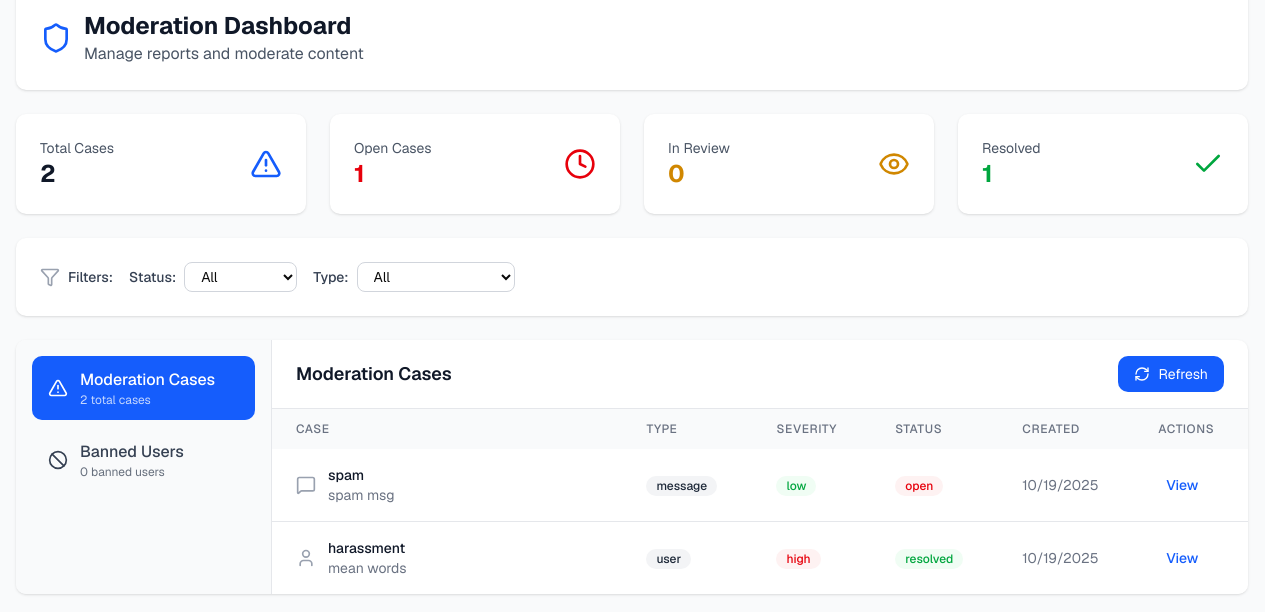
Test: ModerationDashboard (MSW-backed) › filters by status and type
Expected: the text "spam" is shown, [328,466,364,484]
Expected: the text "harassment" is shown, [328,539,405,557]
Select "Resolved" in the dropdown labelled "Status:" at [241, 277], box [184,262,297,292]
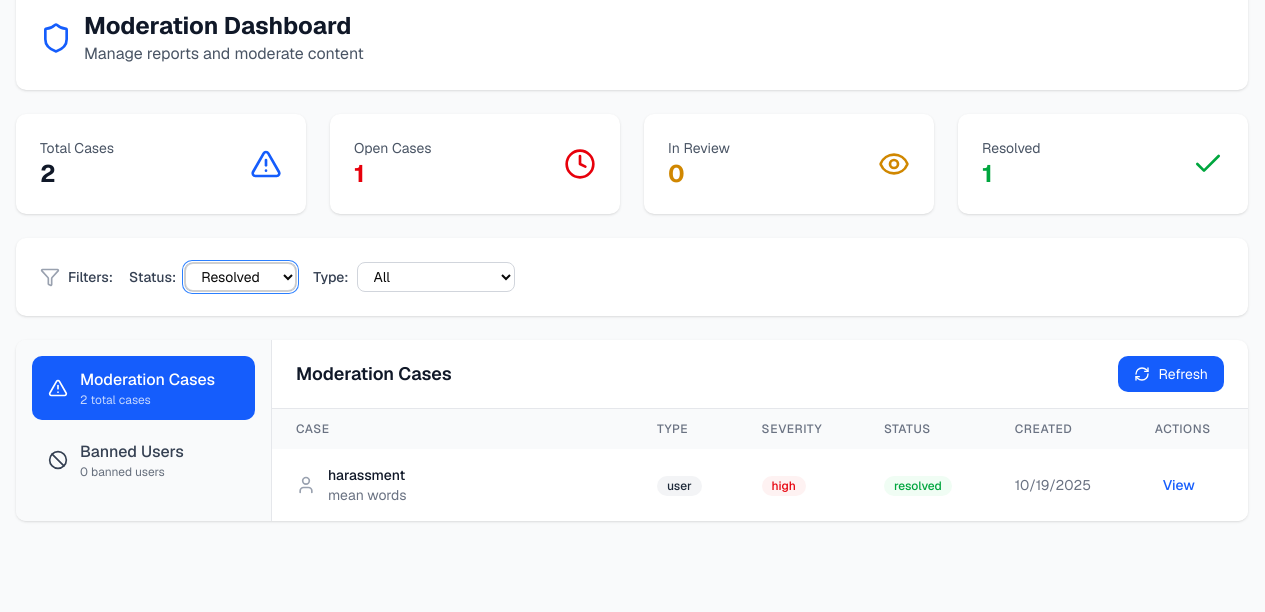
Expected: the text "harassment" is shown, [328,466,405,484]
Expected: the text "spam" is gone
Note: Filter by type: message (should hide the user case)
Select "Message Reports" in the dropdown labelled "Type:" at [436, 277], box [357,262,515,292]
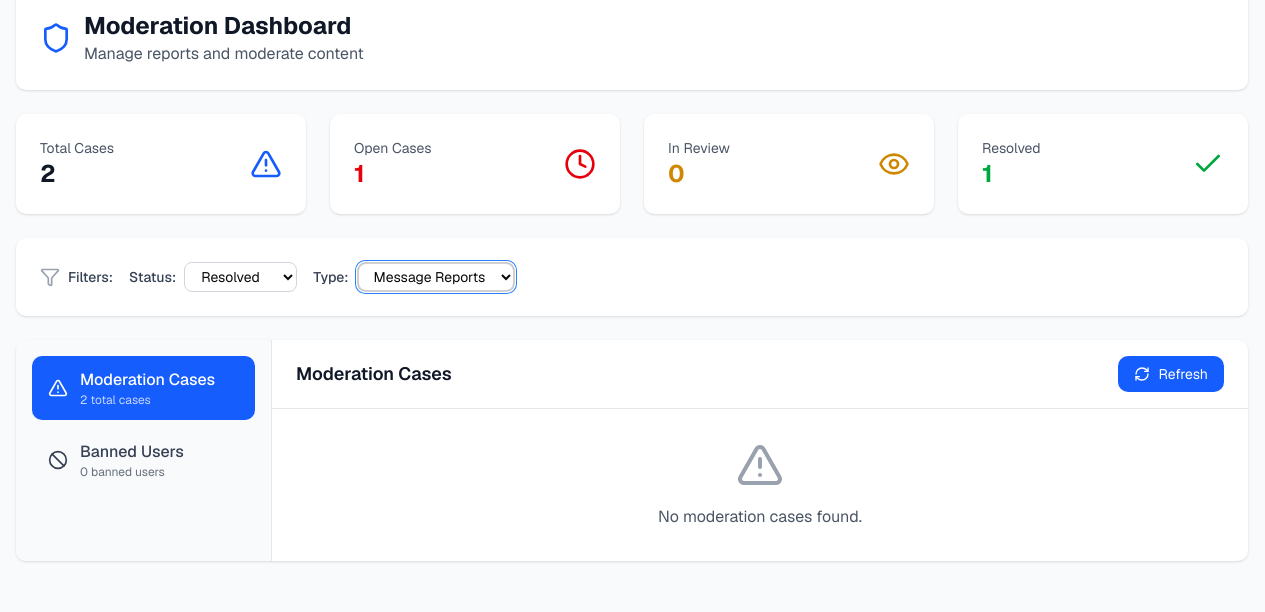
Expected: the text "harassment" is gone
